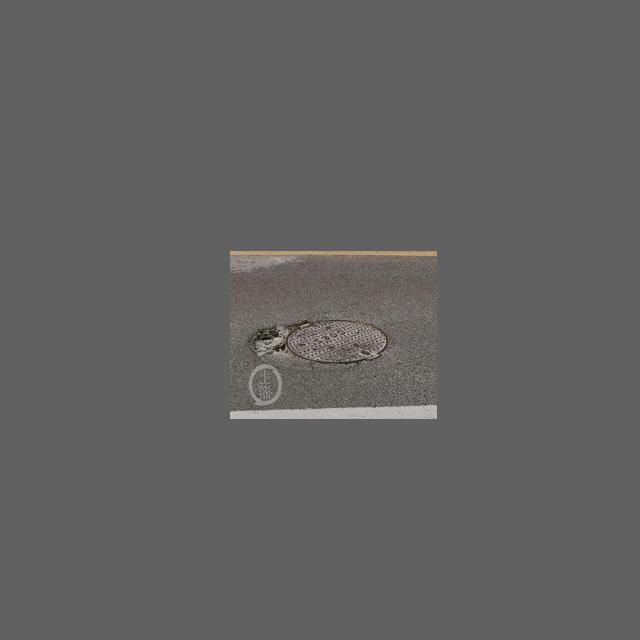circle: (245, 317, 390, 369)
